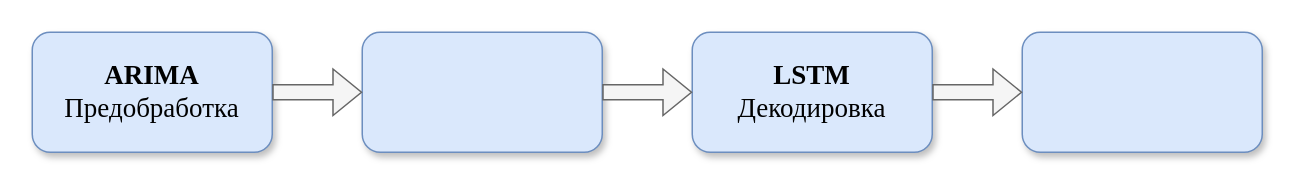
The diagram is 1298 pixels wide and 189 high, and some of its shapes have lost their labels. Each missing label, with the centre of its shape:
"Attention-CNN Кодировка" goes at point (483, 94).
"XGBoost Тонкая настройка" goes at point (1143, 94).
